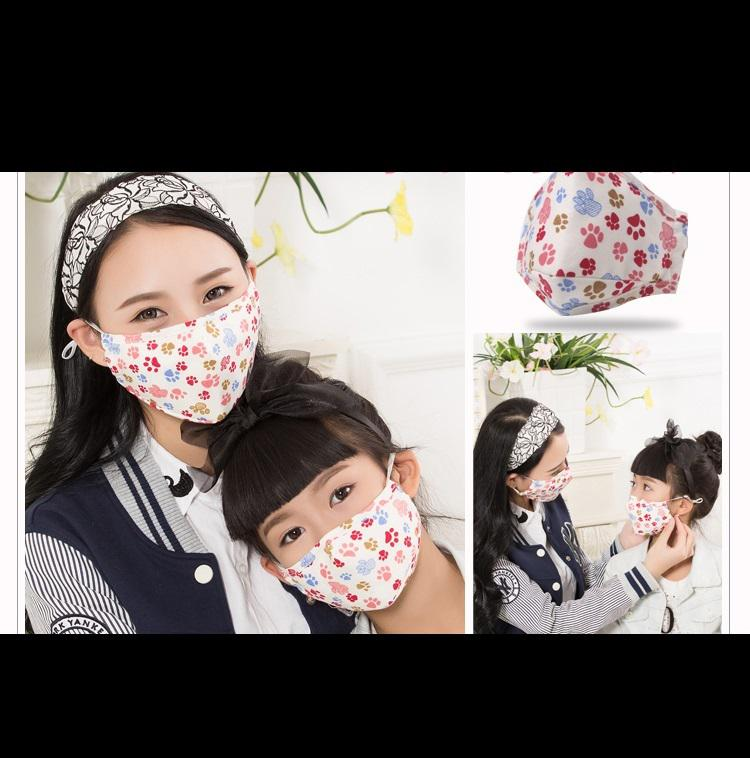OK: (112, 261, 274, 423), (254, 460, 408, 614), (632, 469, 688, 536), (523, 448, 573, 501)
